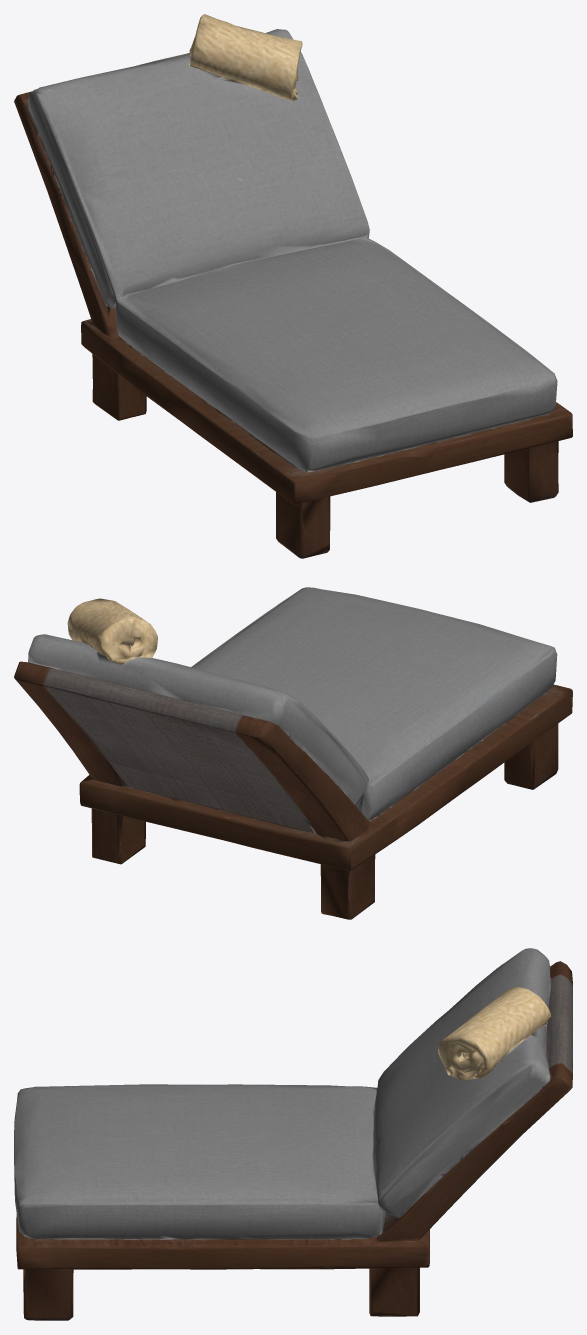
The model's file is hotel-pool-lounger.glb.
3 views of the same model, one above another, from view 1: azimuth 30°, elevation 25°; view 2: azimuth 150°, elevation 25°; view 3: azimuth 270°, elevation 25° (orthographic). The views are drawn at different scales.
Visible parts, largest first — view 1: world; view 2: world; view 3: world.
Part boxes in pixels (left/top/right/bottom): world: left=14, top=14, right=572, bottom=558; world: left=14, top=587, right=572, bottom=919; world: left=14, top=948, right=572, bottom=1320.
Size of the model in its own units: 0.5469 by 0.5736 by 1.
1 material, 1 textured.
